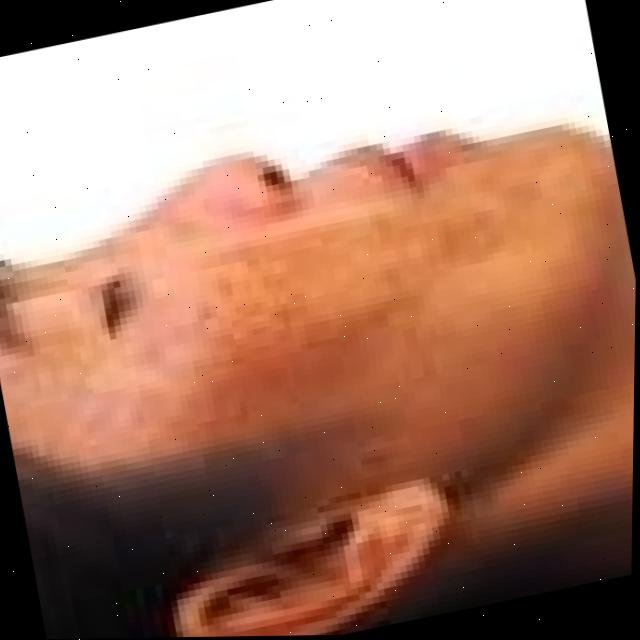Melasma: (197, 222, 464, 429)
